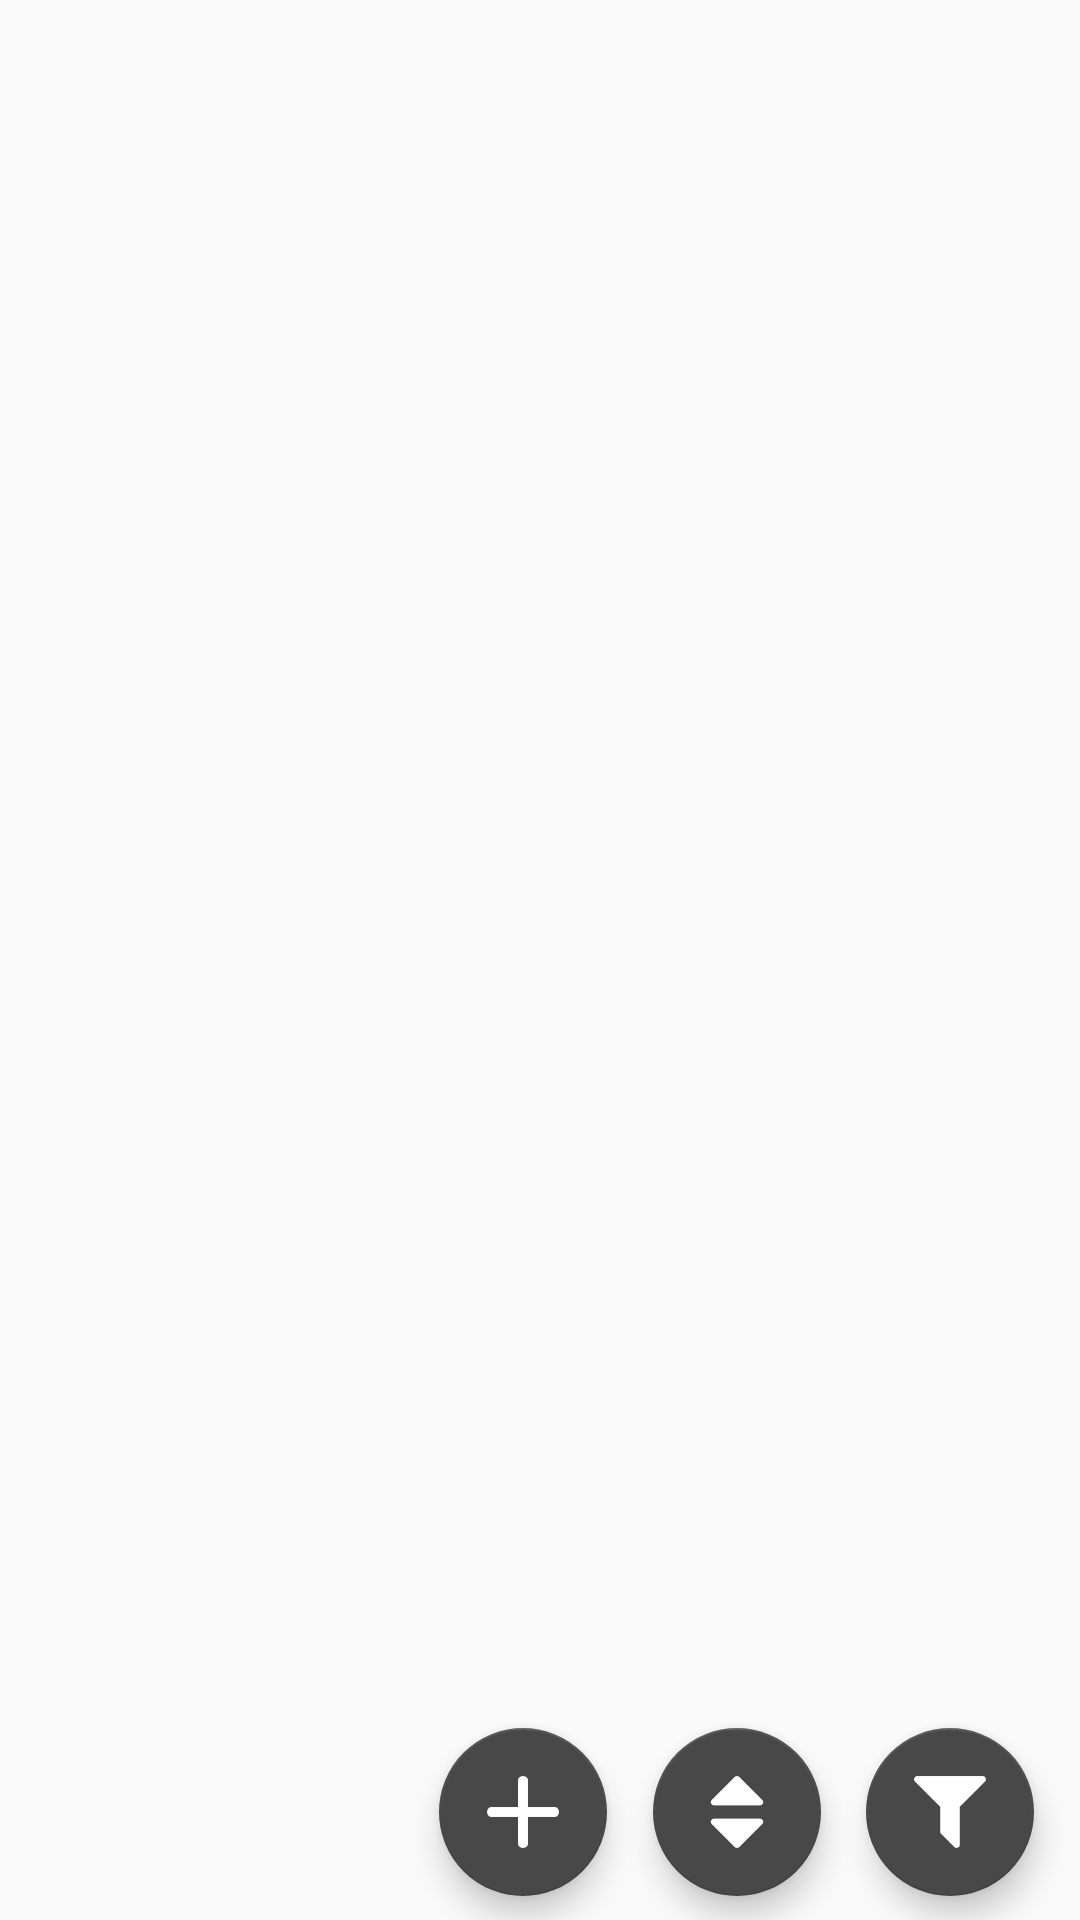

Screen size 1080 x 1920. Icon name, then its center in pixels as (x,y):
add: (523,1812)
filter: (950,1812)
sort: (737,1812)
